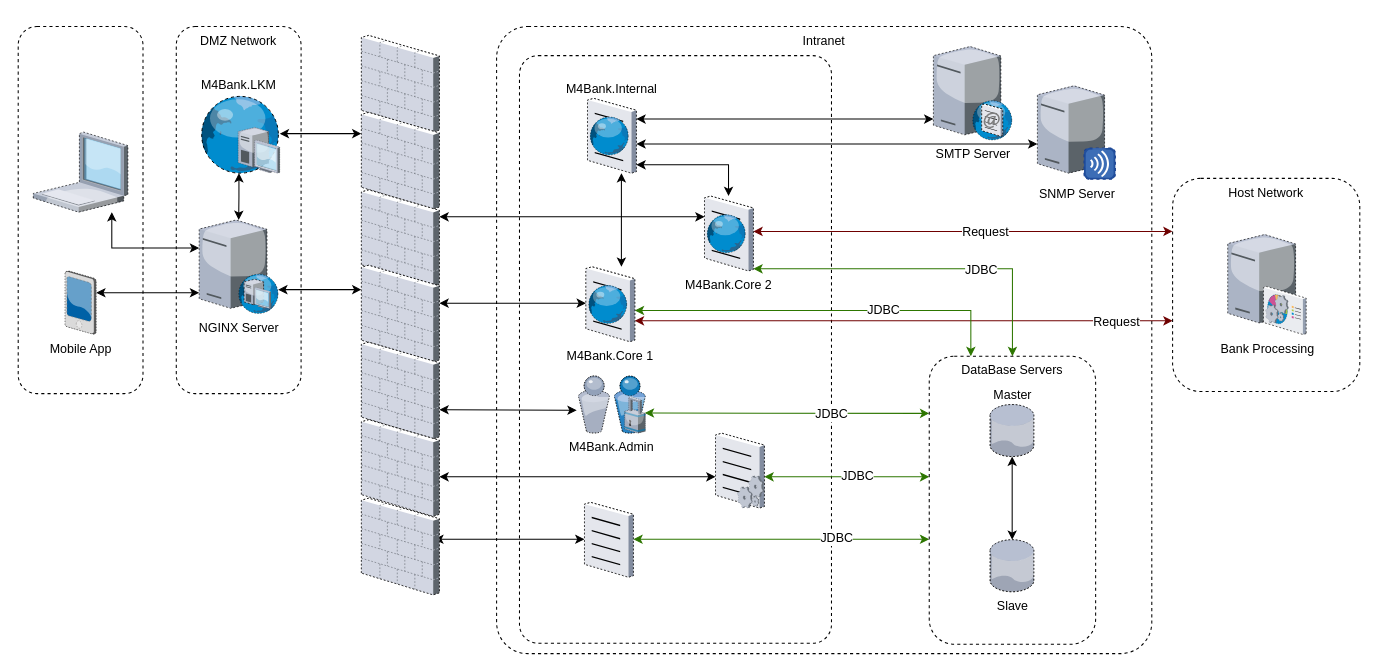
This 1378x672 diagram has some shape labels left out. Here are the shapes that lost their labels. From the top down, the box of each, then its label:
(361, 35, 439, 132): Firewall
(33, 132, 127, 212): Merchant Web Portal
(17, 25, 143, 394): Internet
(518, 55, 831, 643): M4Bank Services
(715, 433, 764, 508): M4Bank.Back
(584, 502, 633, 577): M4Bank.Files
